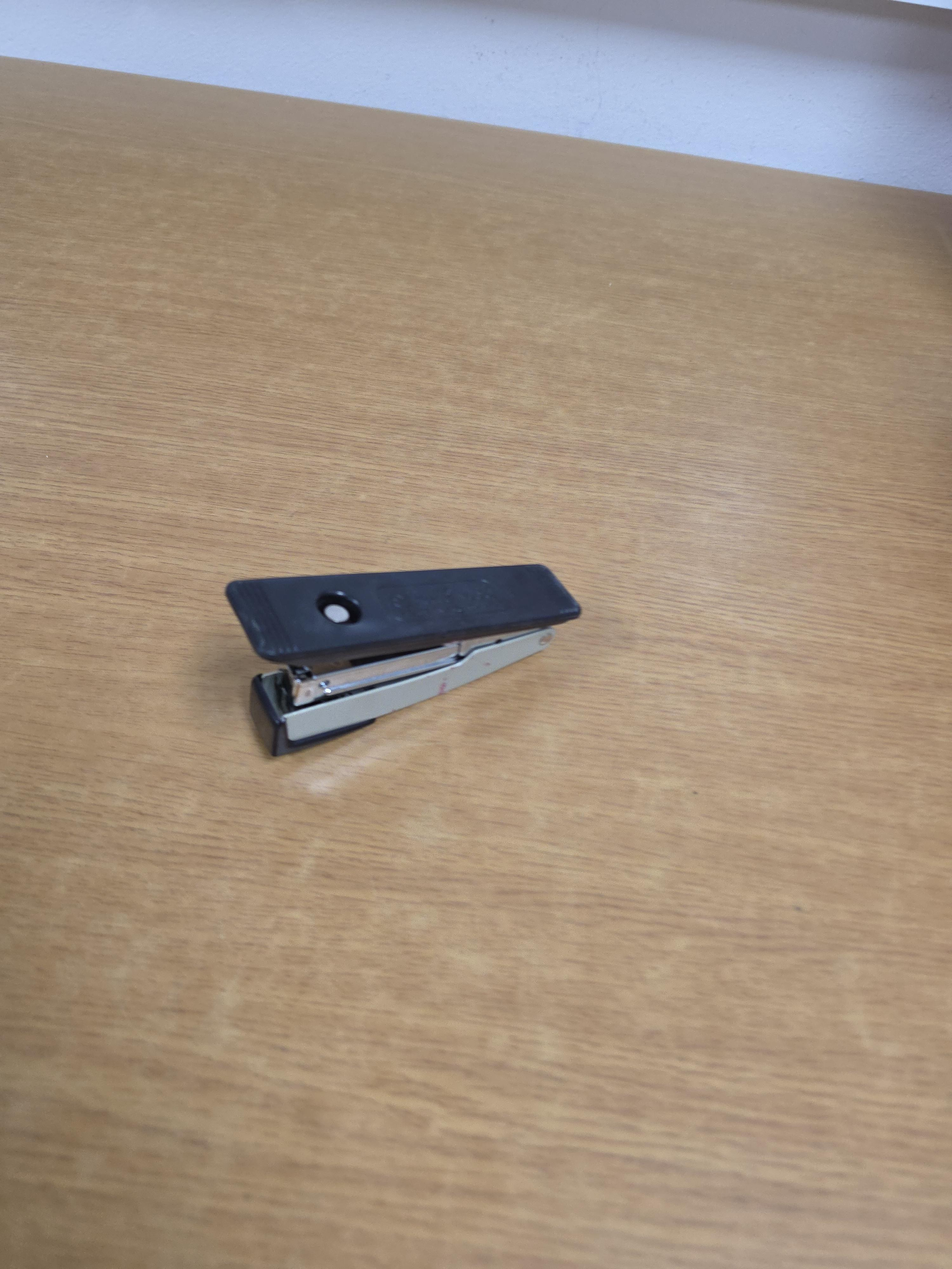stapler: (225, 563, 581, 758)
